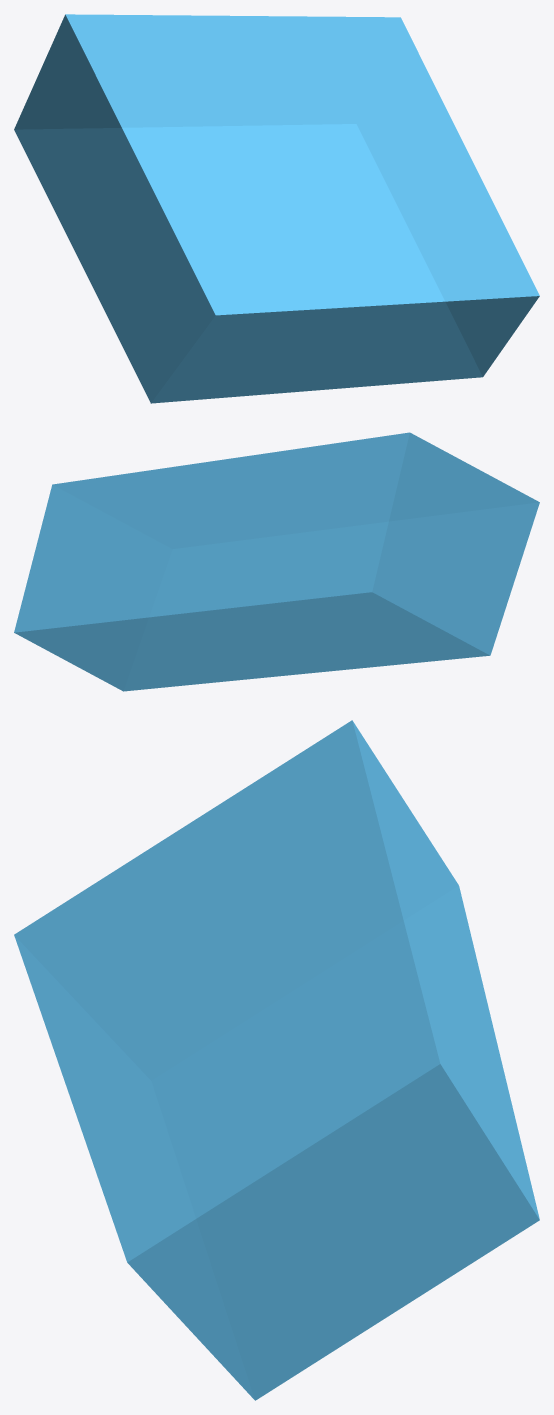
File: Event_421127236_HErechit_2.fbx
3 renders of one model, top to bottom at view 1: azimuth 30°, elevation 25°; view 2: azimuth 150°, elevation 25°; view 3: azimuth 270°, elevation 25°, orthographic. The views are drawn at different scales.
Visible parts, largest first — view 1: Model; view 2: Model; view 3: Model.
Part boxes in pixels (left/top/right/bottom): Model: left=14, top=14, right=539, bottom=403; Model: left=14, top=432, right=539, bottom=691; Model: left=14, top=720, right=539, bottom=1400.
Size of the model in its own units: 0.8254 by 0.881 by 0.8836.
